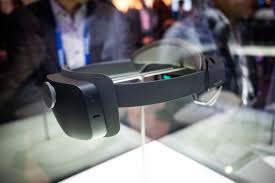hololens: (42, 38, 223, 141)
